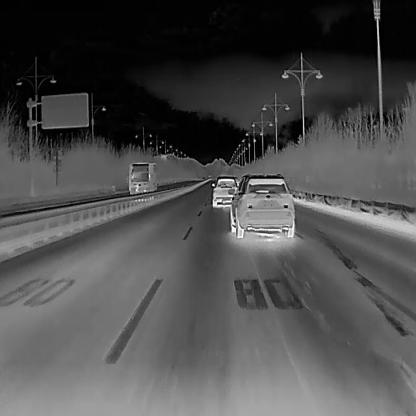car: (229, 173, 294, 238), (128, 161, 158, 195), (210, 176, 236, 206)
